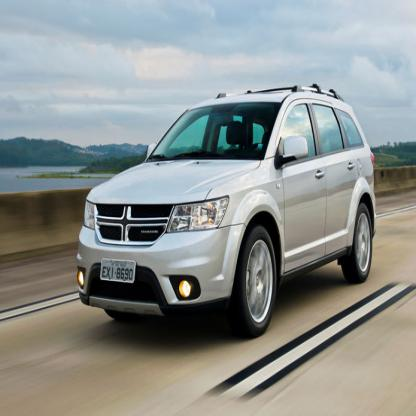Vehicle: (80, 88, 377, 340)
